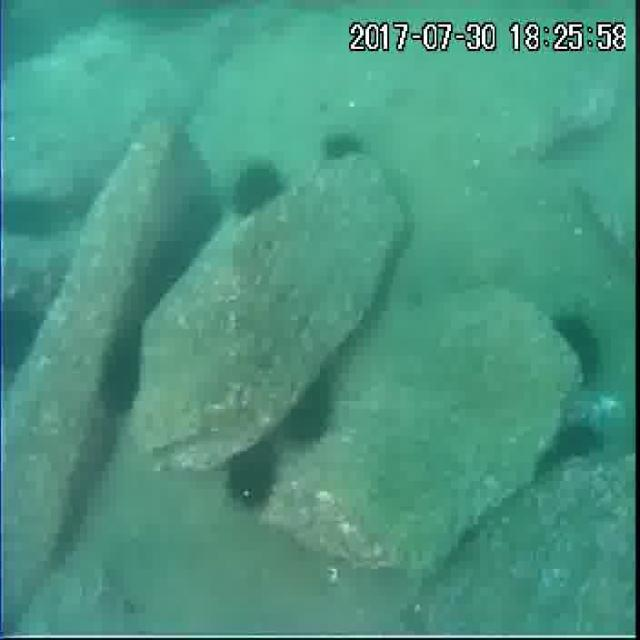echinus: (96, 326, 144, 422), (227, 159, 292, 220), (224, 440, 282, 508), (281, 378, 334, 452), (551, 311, 604, 383), (0, 190, 68, 246), (172, 188, 225, 254), (145, 236, 190, 306), (1, 301, 40, 375), (547, 419, 602, 465), (318, 126, 364, 166)
